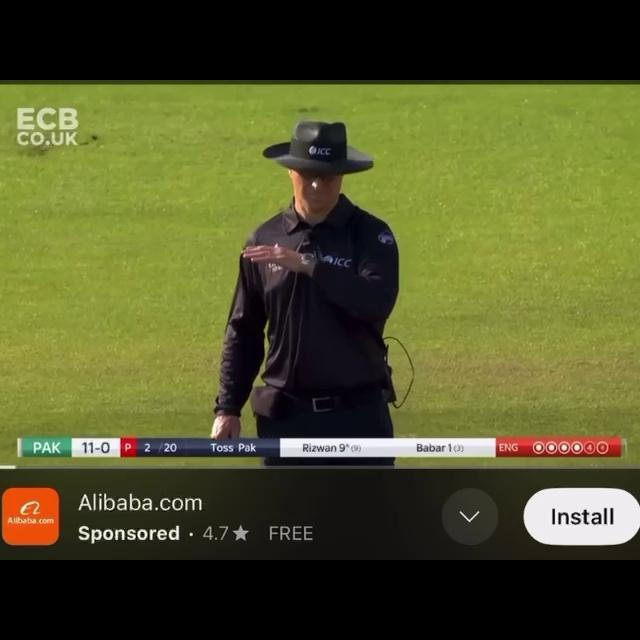umpire: (219, 118, 440, 437)
